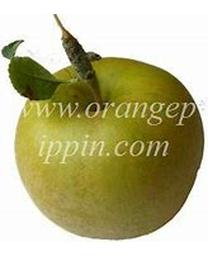apple: (14, 34, 202, 240)
